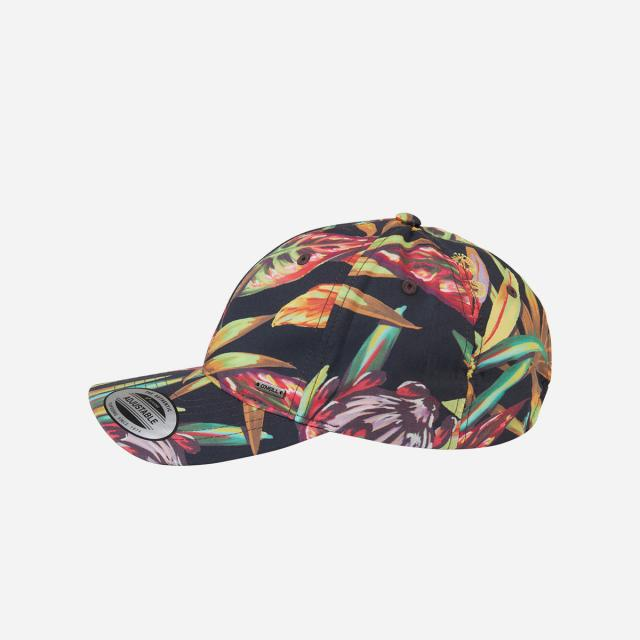Nonhelmet: (87, 210, 556, 467)
